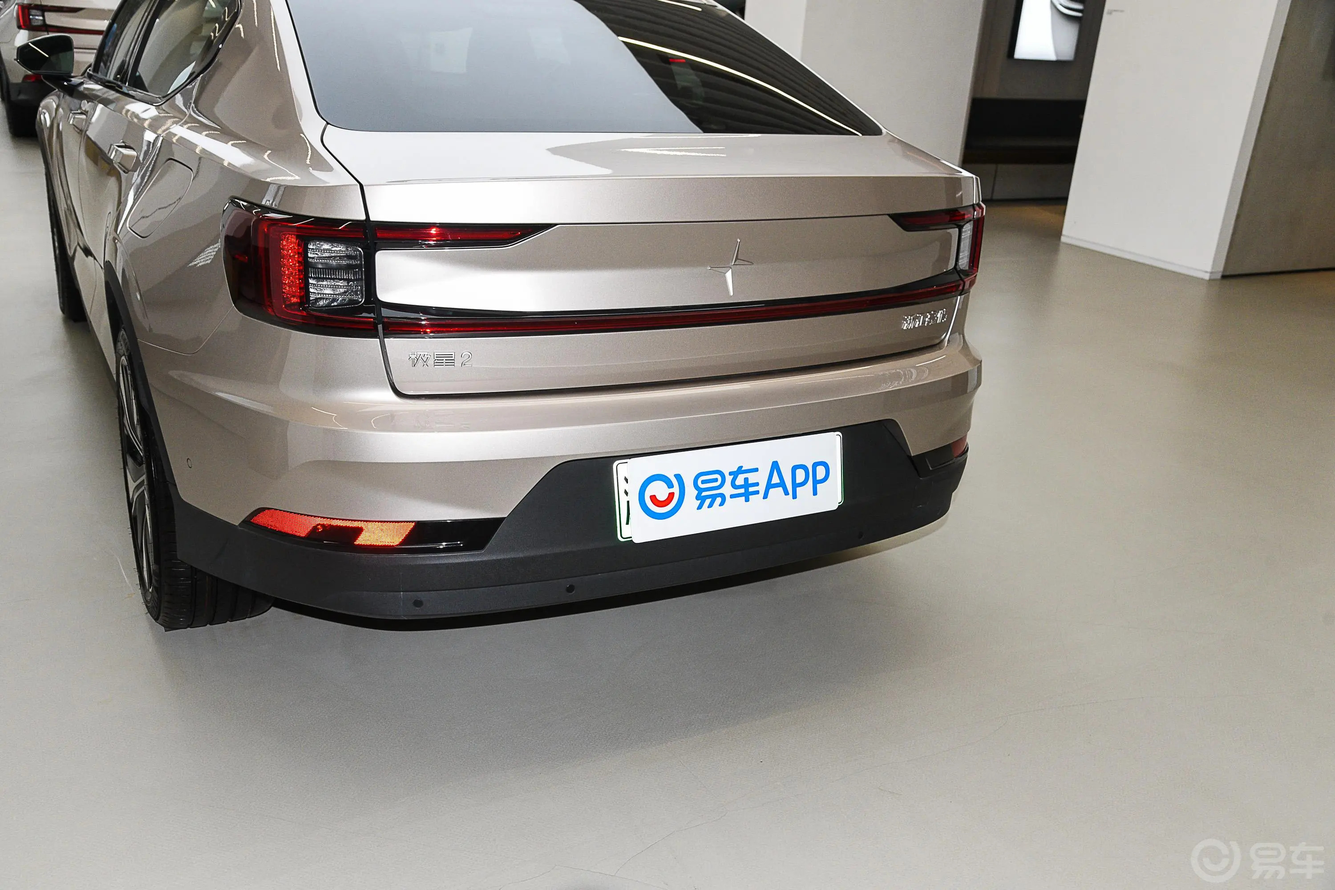Polestar: (708, 239, 753, 295)
